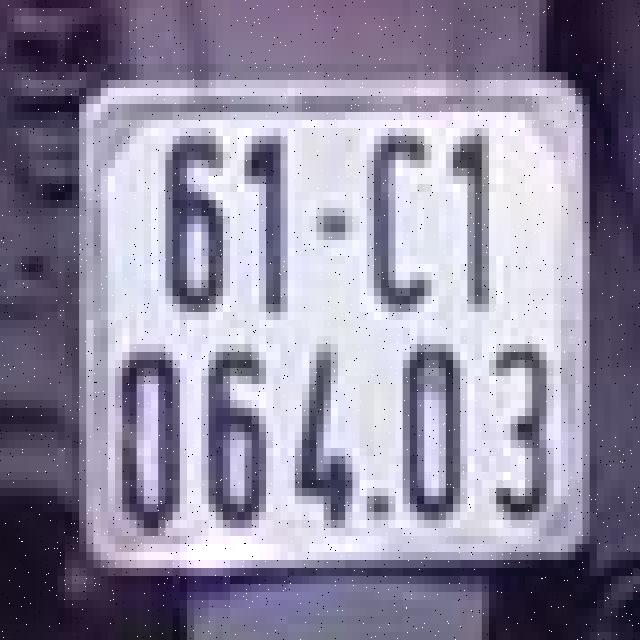0: (104, 320, 191, 560), (396, 320, 474, 536)
1: (241, 124, 291, 332), (449, 124, 500, 316)
3: (482, 316, 575, 532)
4: (291, 320, 378, 544)
6: (194, 332, 288, 540), (151, 116, 245, 316)
C: (356, 112, 442, 312)
